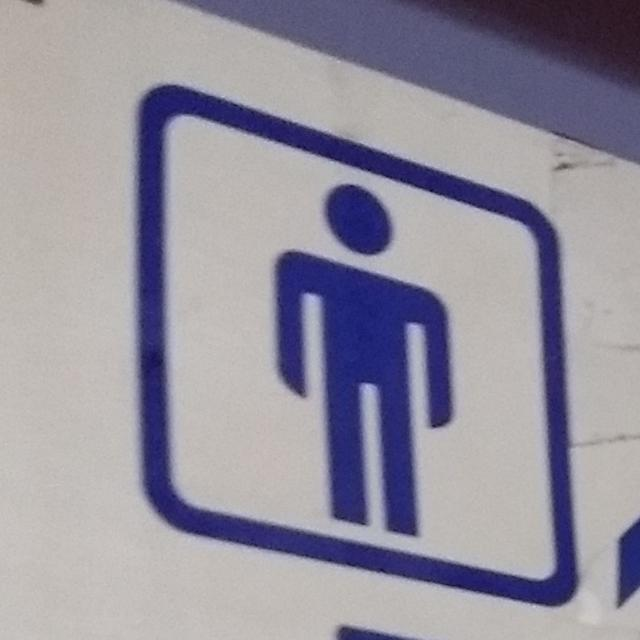wc nam: (140, 89, 575, 605)
